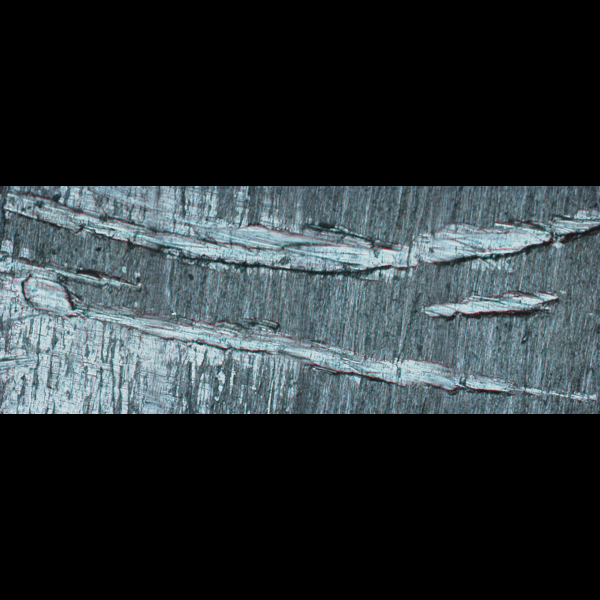d: (0, 240, 596, 411), (0, 186, 599, 279), (415, 283, 562, 326)
